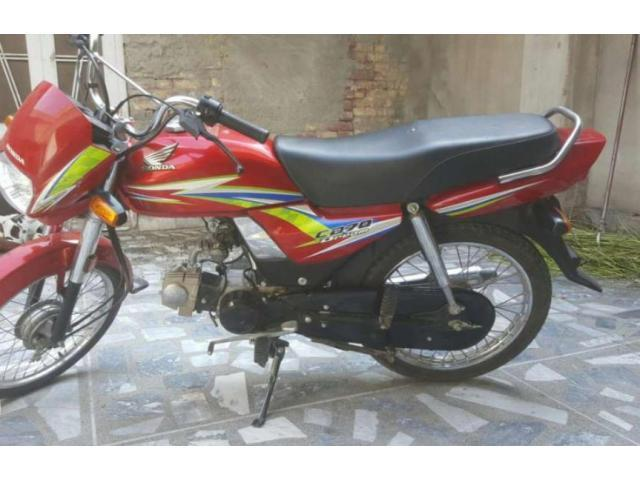motorcycle: (0, 61, 622, 429)
